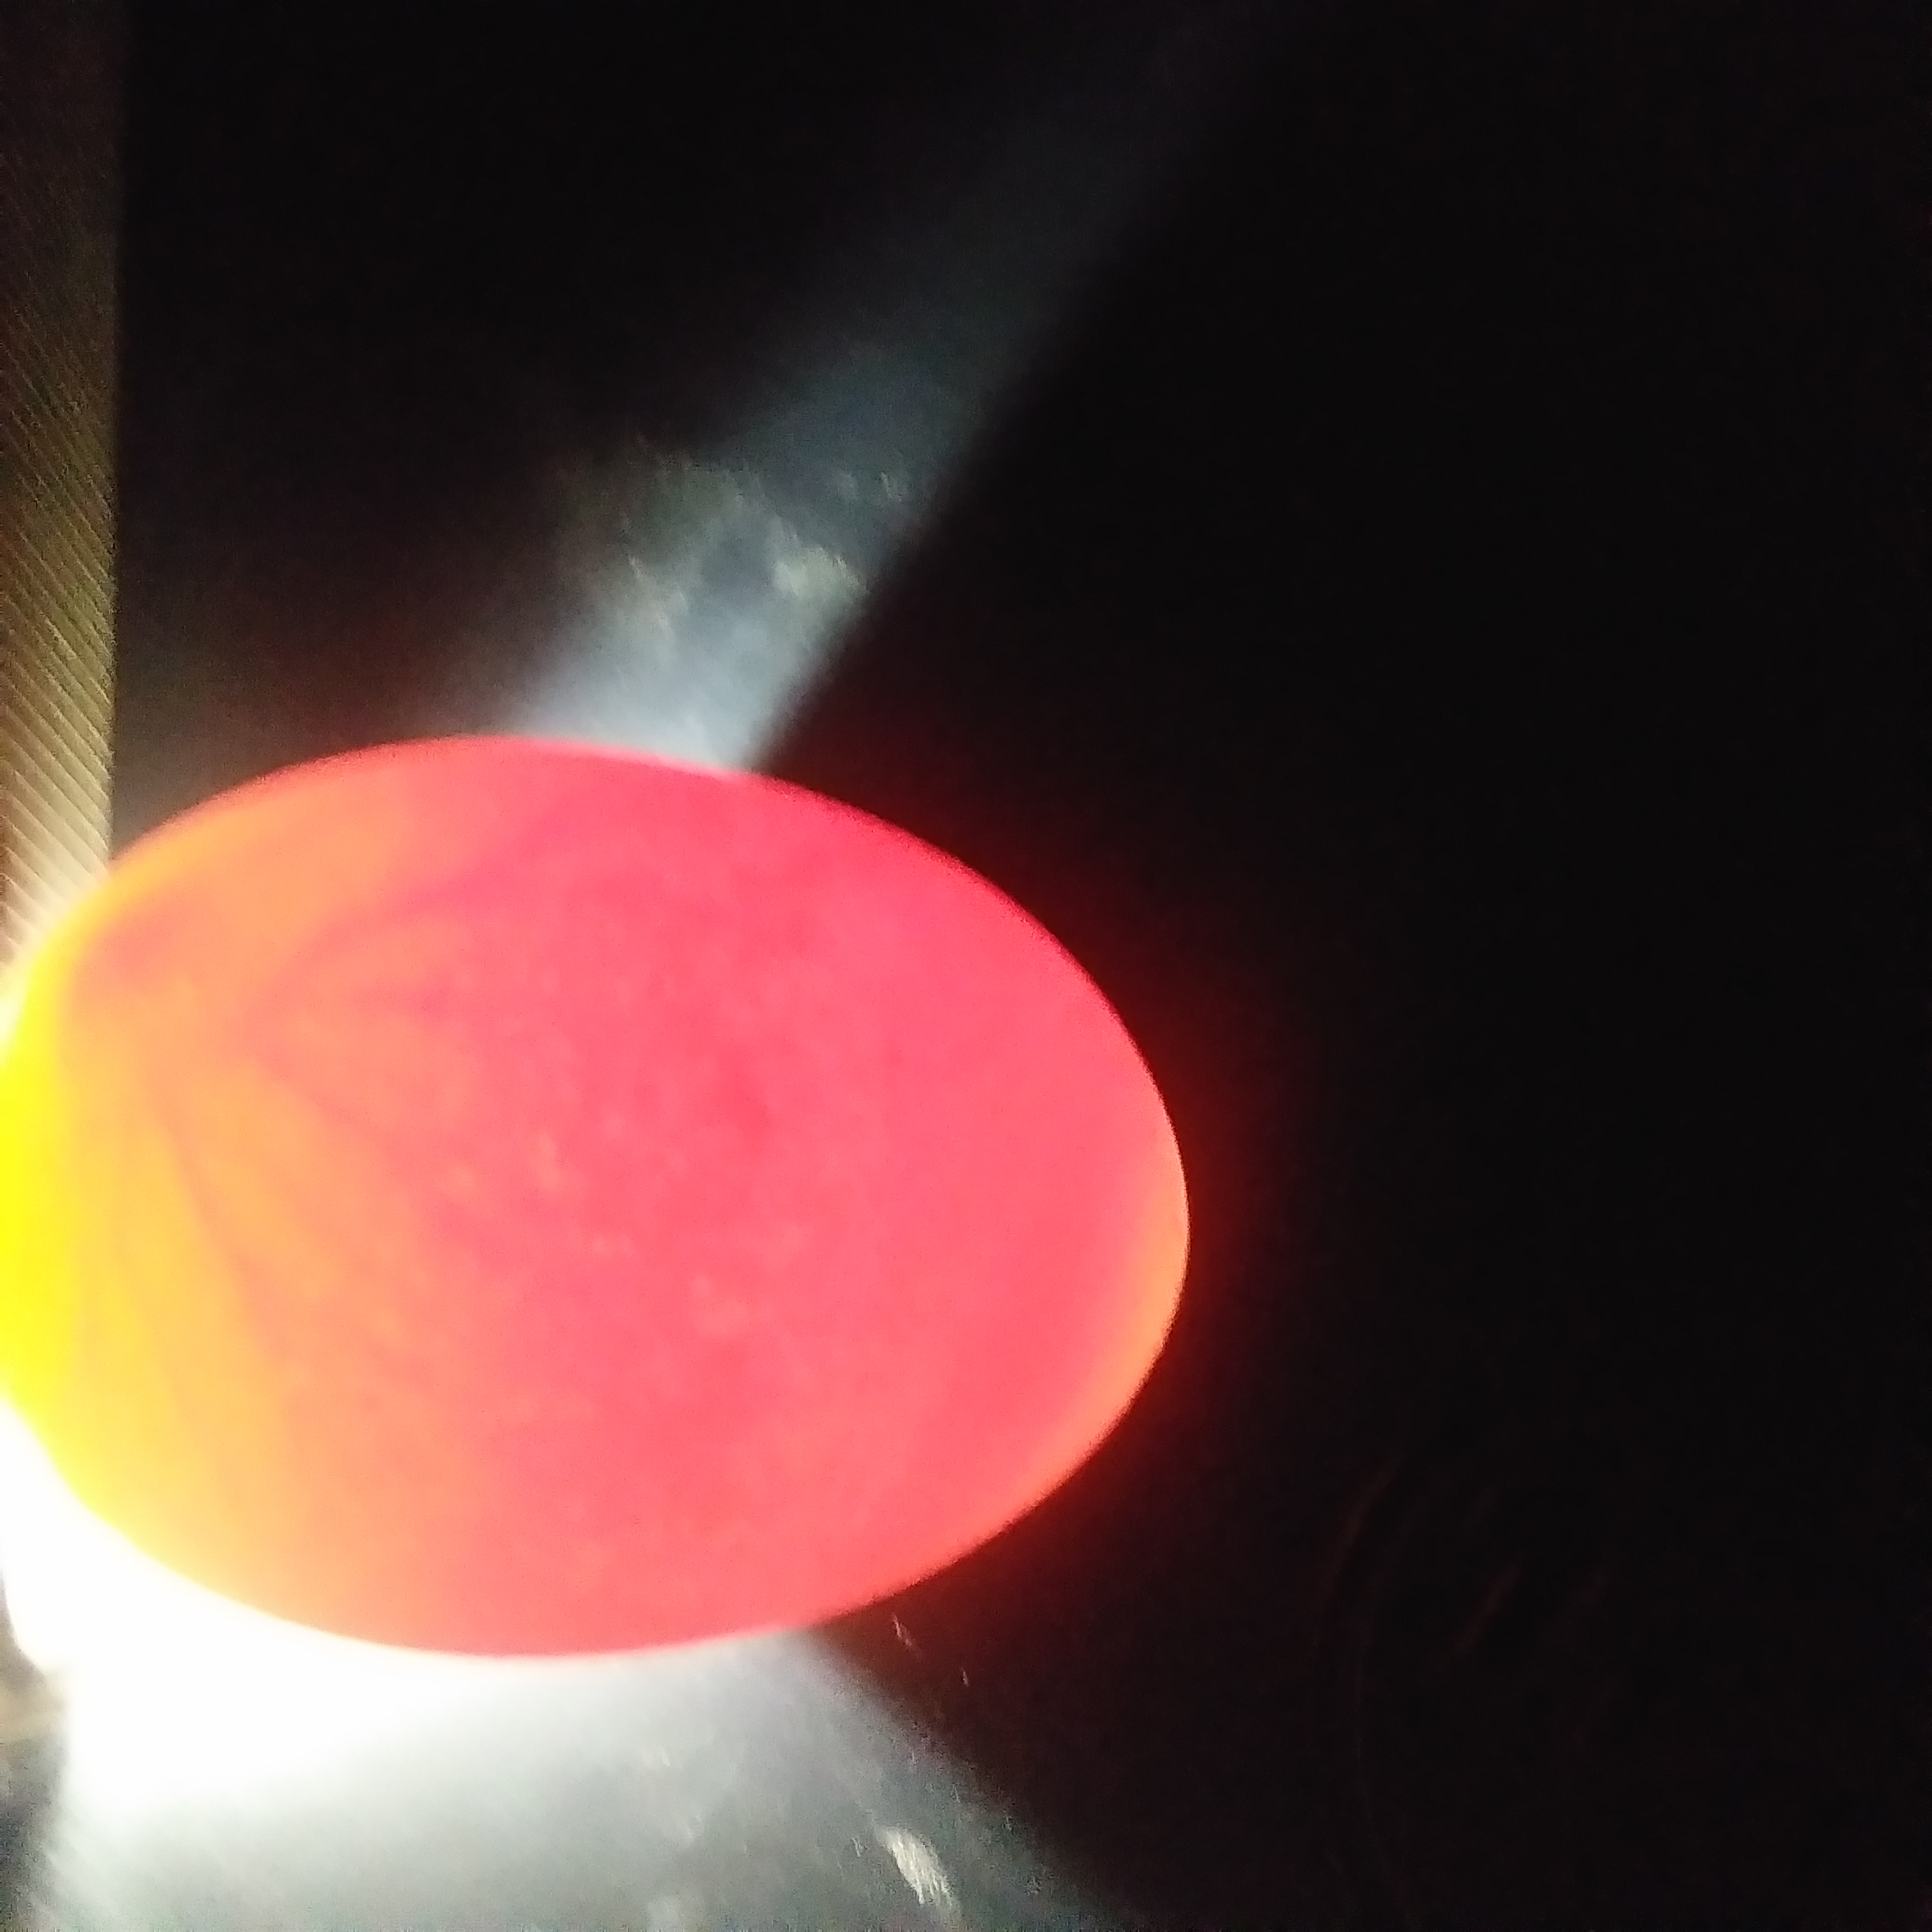bloodcell: (241, 906, 575, 1364), (65, 1051, 225, 1302)
embryo: (64, 895, 198, 1008)
